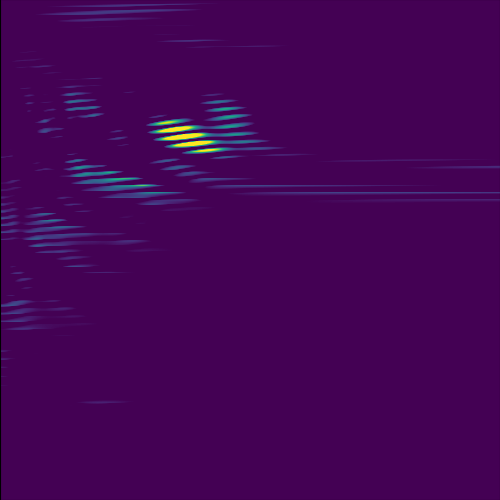semblance: (148, 111, 225, 161)
